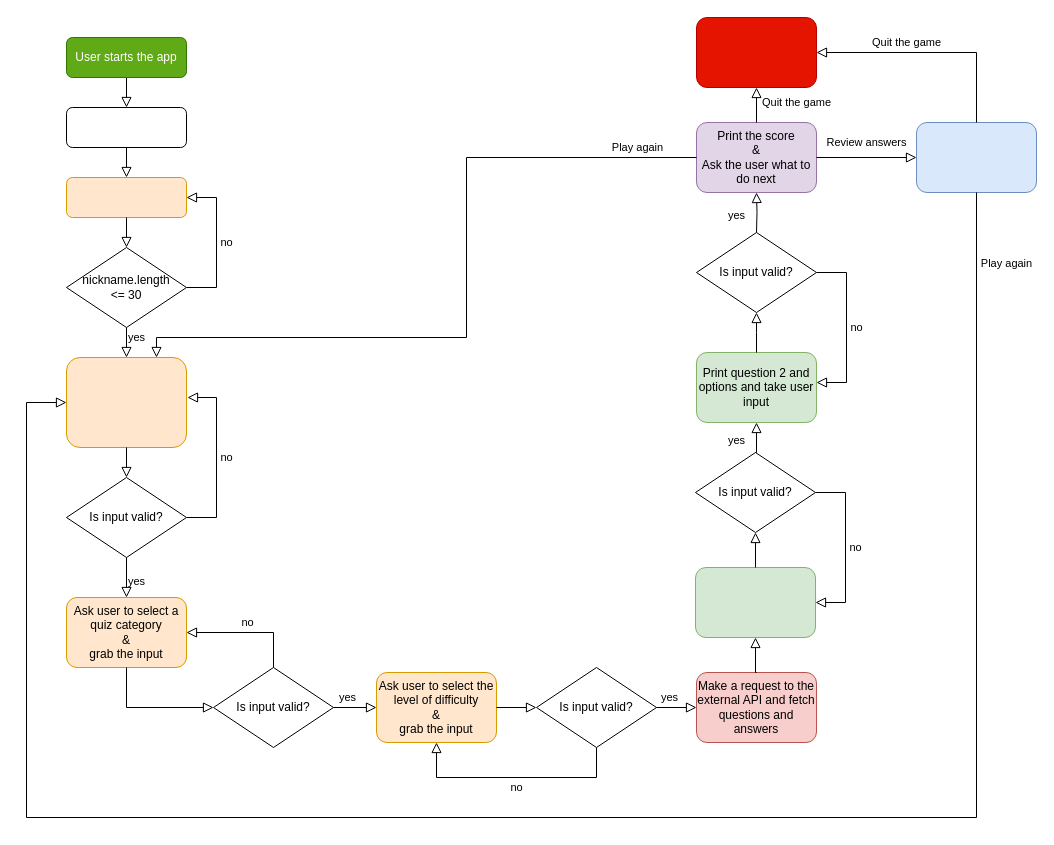
This 1054x845 diagram has some shape labels left out. Here are the shapes that lost their labels. From the top down, the centre of each, then its label:
the point at 756,52: Print "Thanks for playing the game. See you again."
the point at 126,127: print "Welcome to Trivia Quiz game!"
the point at 976,157: Review all answers via a loop
the point at 126,197: Get nickname from user input
the point at 126,402: Ask user how many questions they would like to play & grab the input
the point at 755,602: Print question 1 and options and take user input
